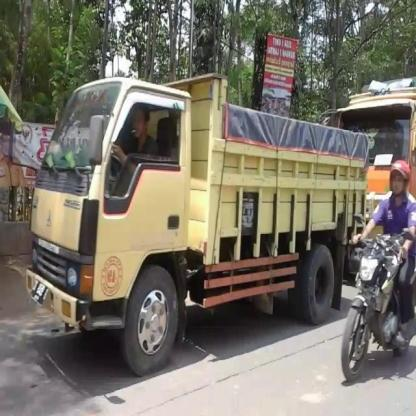truck: (29, 73, 377, 378)
